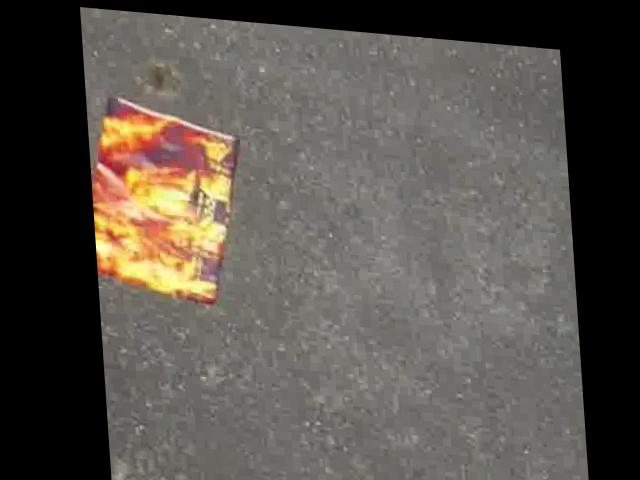fire-poster: (85, 93, 246, 303)
